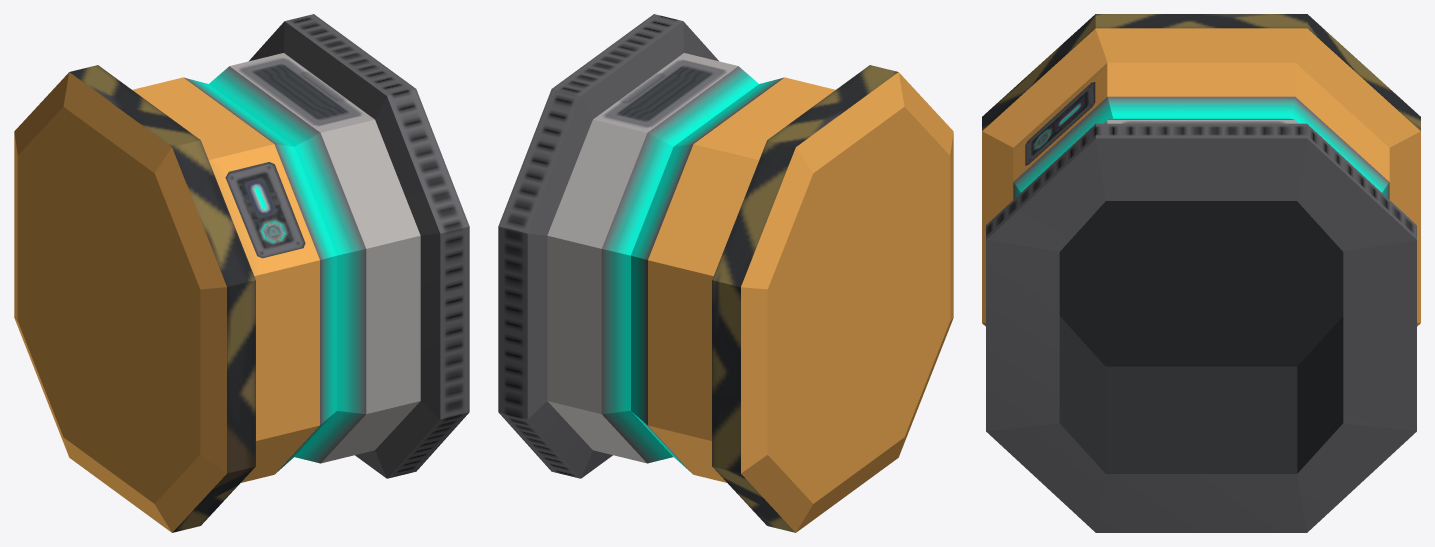
The model's file is SM_Bld_Pipe_Large_End_02.fbx.
3 views of the same model, side by side, from view 1: azimuth 30°, elevation 25°; view 2: azimuth 150°, elevation 25°; view 3: azimuth 270°, elevation 25° (orthographic). The views are drawn at different scales.
Visible parts, largest first — view 1: SM_Bld_Pipe_Large_End_02; view 2: SM_Bld_Pipe_Large_End_02; view 3: SM_Bld_Pipe_Large_End_02.
Part boxes in pixels (bbox=[...]): SM_Bld_Pipe_Large_End_02: bbox=[14, 14, 469, 532]; SM_Bld_Pipe_Large_End_02: bbox=[498, 14, 953, 532]; SM_Bld_Pipe_Large_End_02: bbox=[982, 14, 1420, 532].
Bounding box in the file's own units: 99.8 × 142 × 142.
